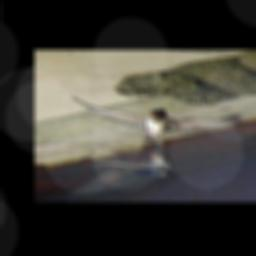Swallow: (67, 95, 247, 146)
